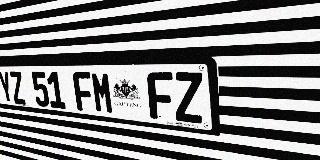1: (45, 72, 66, 109)
5: (31, 72, 51, 107)
F: (147, 72, 175, 121), (72, 72, 95, 112)
M: (90, 72, 115, 114)
Y: (0, 71, 14, 104)
Z: (173, 72, 204, 124), (9, 71, 27, 105)
